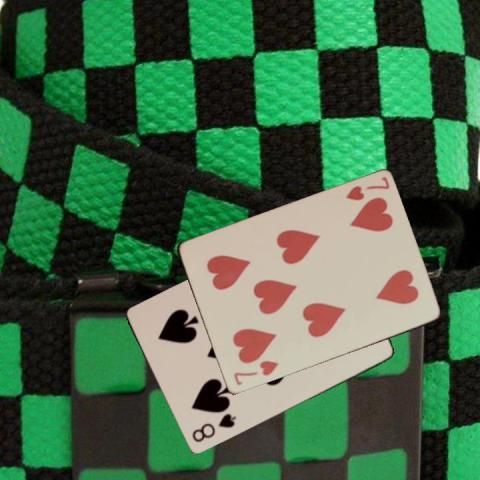7h: (230, 358, 279, 387), (342, 174, 391, 203)
8s: (189, 411, 237, 444)
